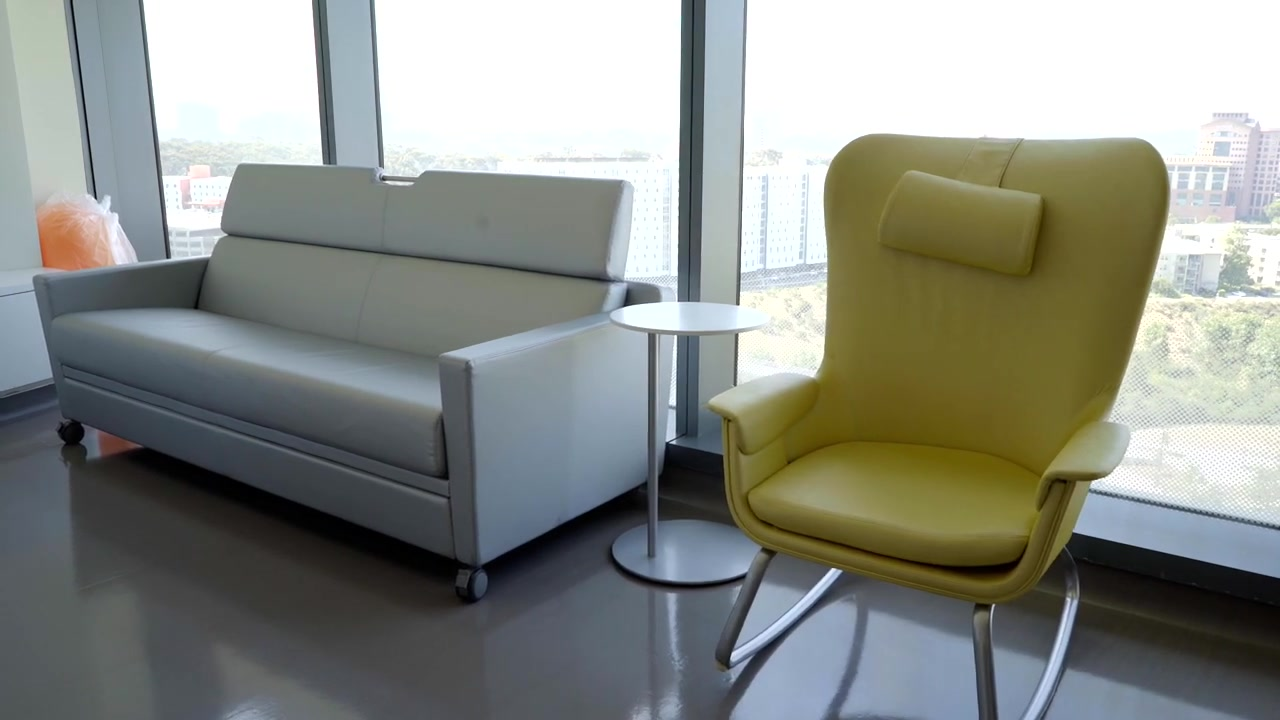sofa: (32, 163, 673, 603), (707, 134, 1171, 720)
table: (609, 301, 771, 588)
